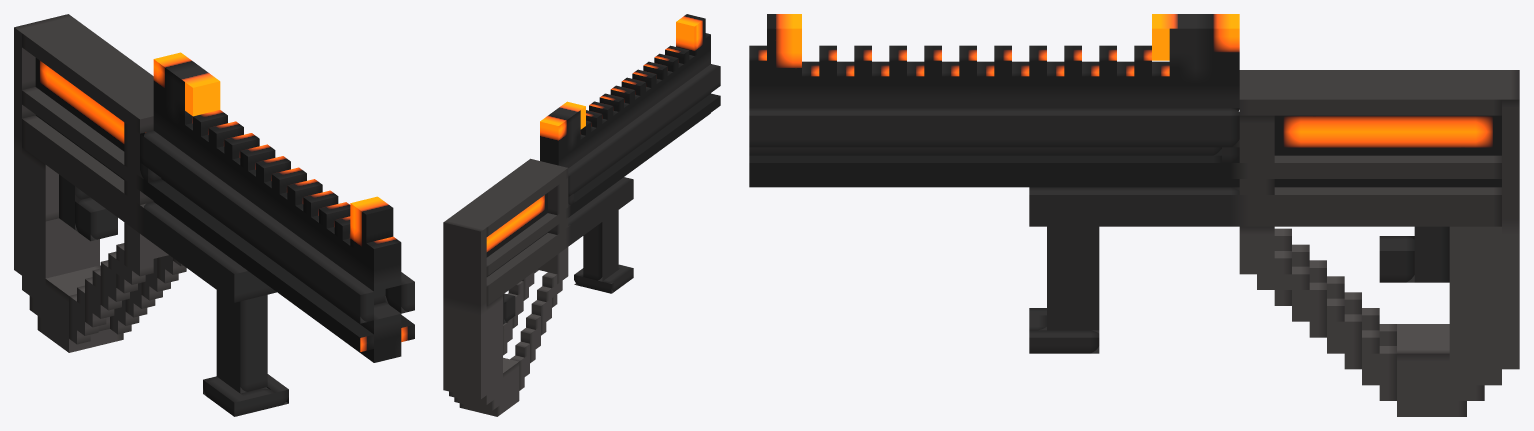
The model's file is PumpShotgun.dae.
The picture shows the model from 3 angles, left to right: view 1: azimuth 30°, elevation 25°; view 2: azimuth 150°, elevation 25°; view 3: azimuth 270°, elevation 25°; orthographic projection. The views are drawn at different scales.
Visible parts, largest first — view 1: PumpShotgun; view 2: PumpShotgun; view 3: PumpShotgun.
Boxes of the visible parts, x1,y1,x2,y2 form: PumpShotgun: [14, 14, 414, 416]; PumpShotgun: [443, 14, 720, 416]; PumpShotgun: [749, 14, 1519, 416].
Size of the model in its own units: 4 by 24 by 44.
1 material, 1 textured.
